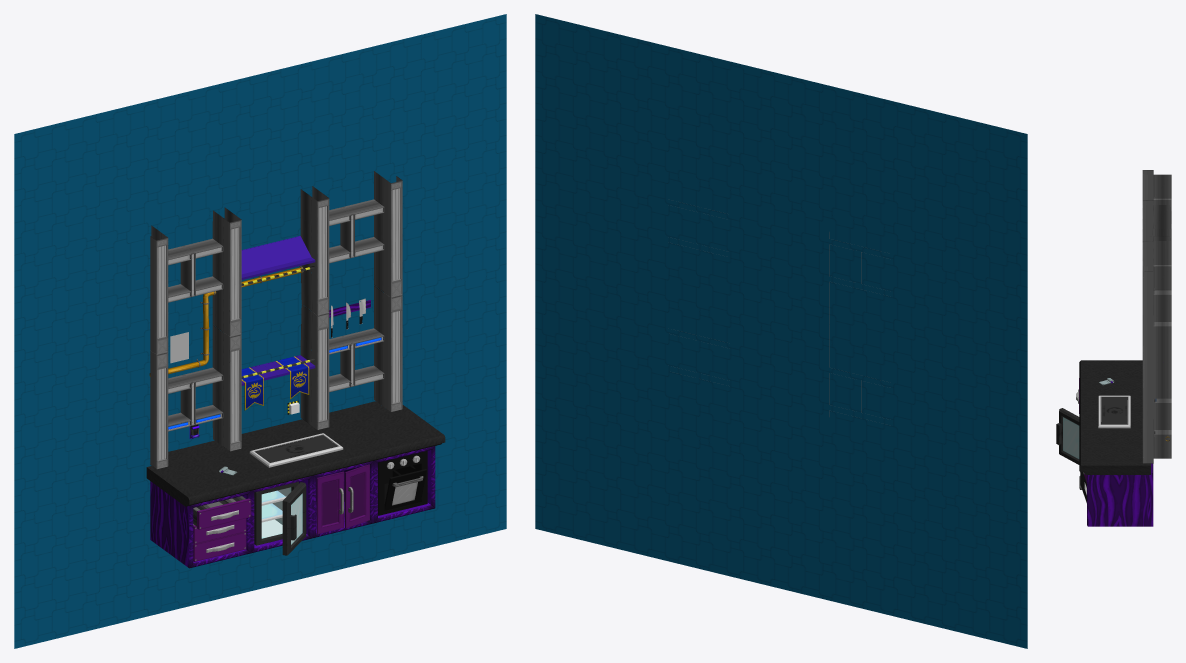
File: CocinaUSI.fbx
3 views of the same model, side by side, from view 1: azimuth 30°, elevation 25°; view 2: azimuth 150°, elevation 25°; view 3: azimuth 270°, elevation 25° (orthographic). The views are drawn at different scales.
Visible parts, largest first — view 1: Plane001, Parte Superior001, Parte Superior, MesaMarmol, MesaMadera, PlataformaMesa, ClosetDoor, FreezerDoor, FurnanceBody, ClosetDoor001, Cajon, FurnanceDoor (+5 smaller); view 2: Plane001; view 3: MesaMarmol, Parte Superior001, MesaMadera, Parte Superior, PlataformaMesa, FreezerDoor.
Part boxes in pixels (bbox=[...]): Plane001: bbox=[14, 14, 506, 648]; Parte Superior001: bbox=[150, 171, 402, 354]; Parte Superior: bbox=[150, 285, 402, 469]; MesaMarmol: bbox=[146, 401, 445, 506]; MesaMadera: bbox=[150, 446, 435, 568]; PlataformaMesa: bbox=[249, 433, 343, 467]; ClosetDoor: bbox=[316, 471, 344, 534]; FreezerDoor: bbox=[282, 482, 306, 555]; FurnanceBody: bbox=[378, 450, 427, 515]; ClosetDoor001: bbox=[345, 464, 369, 528]; Cajon: bbox=[193, 496, 251, 529]; FurnanceDoor: bbox=[384, 469, 426, 510]; Plane001: bbox=[535, 14, 1027, 648]; MesaMarmol: bbox=[1079, 360, 1150, 474]; Parte Superior001: bbox=[1142, 170, 1171, 367]; MesaMadera: bbox=[1087, 463, 1153, 526]; Parte Superior: bbox=[1142, 362, 1171, 463]; PlataformaMesa: bbox=[1098, 395, 1130, 428]; FreezerDoor: bbox=[1056, 408, 1079, 464].
Bounding box in the file's own units: 3000 × 3000 × 724.
